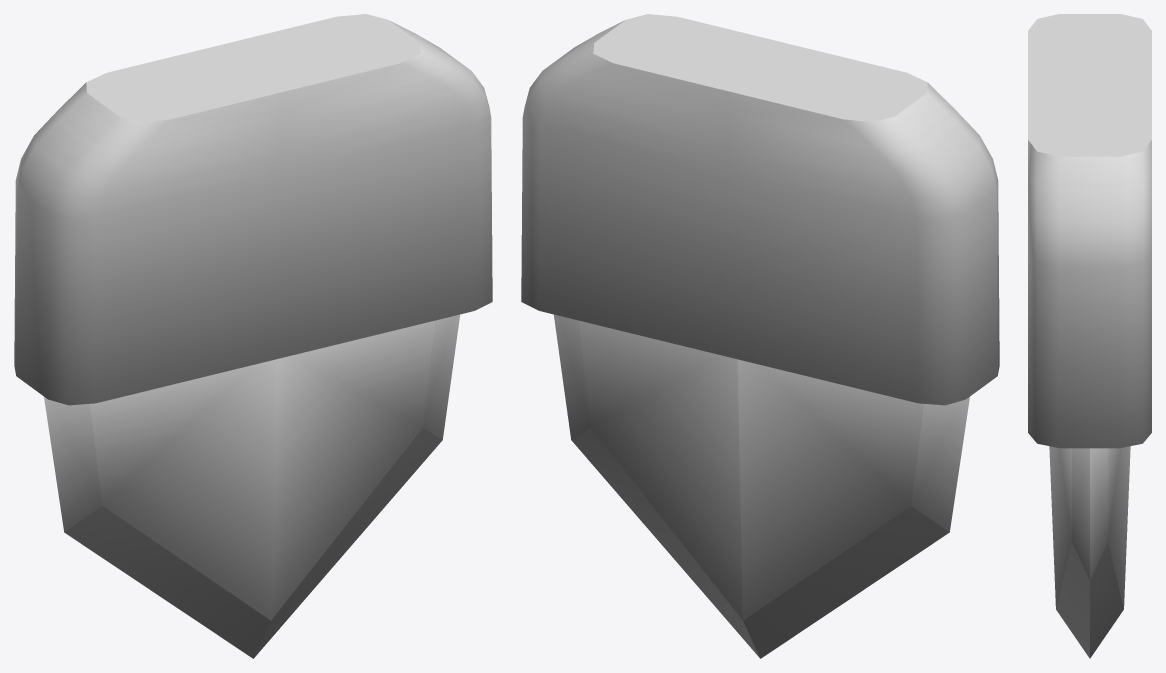
Rendered from stone_pommel_147.glb.
The picture shows the model from 3 angles, left to right: view 1: azimuth 30°, elevation 25°; view 2: azimuth 150°, elevation 25°; view 3: azimuth 270°, elevation 25°; orthographic projection. The views are drawn at different scales.
Visible parts, largest first — view 1: stone_pommel.147; view 2: stone_pommel.147; view 3: stone_pommel.147.
Part boxes in pixels (x1,y1,x2,y2): stone_pommel.147: (14,14,492,658); stone_pommel.147: (521,14,999,658); stone_pommel.147: (1028,14,1151,658).
Bounding box in the file's own units: 1.66 × 2.12 × 0.4148.
1 material, 1 textured.
